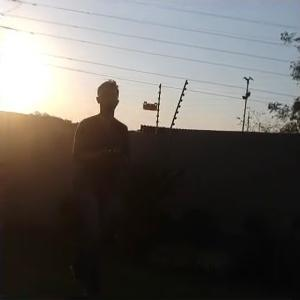follow: (64, 71, 133, 297)
